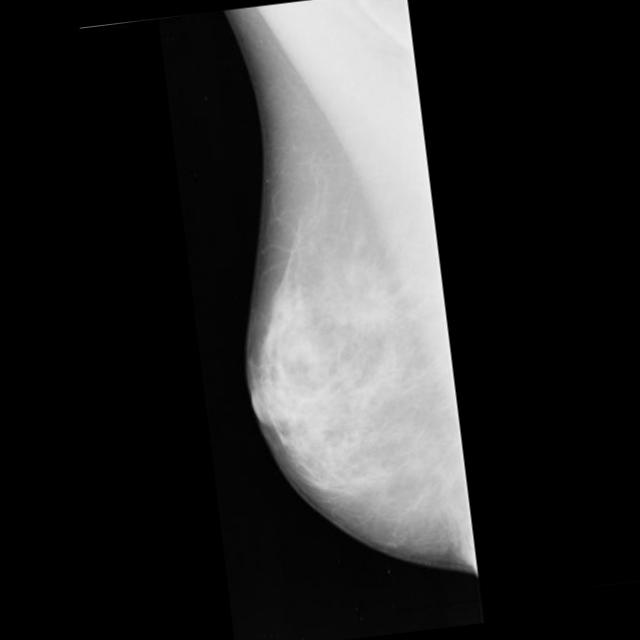SPIC: (342, 282, 400, 340)
